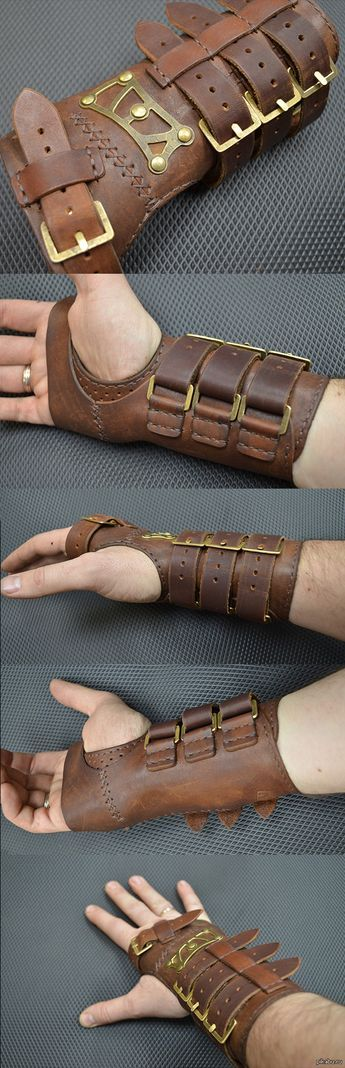cuero: (1, 1, 341, 1062)
